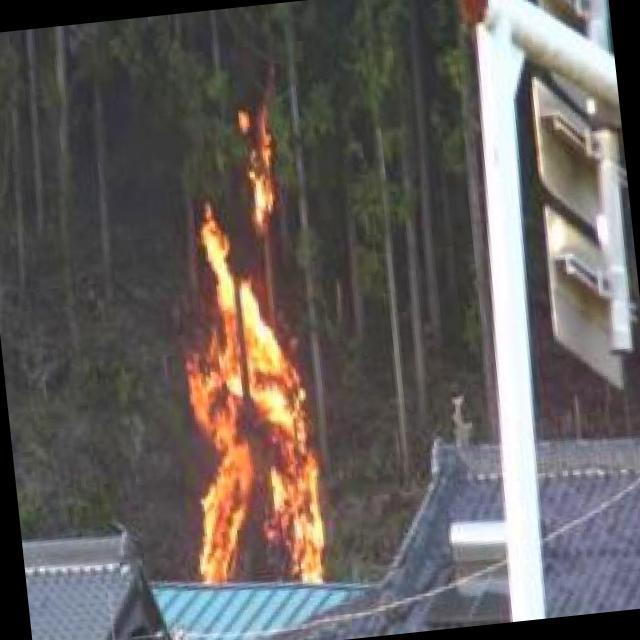Fire: (160, 218, 340, 600), (233, 108, 296, 222)
